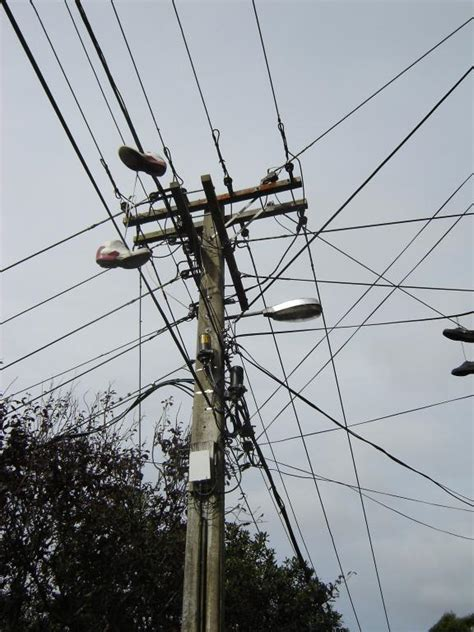pole: (69, 133, 366, 632)
